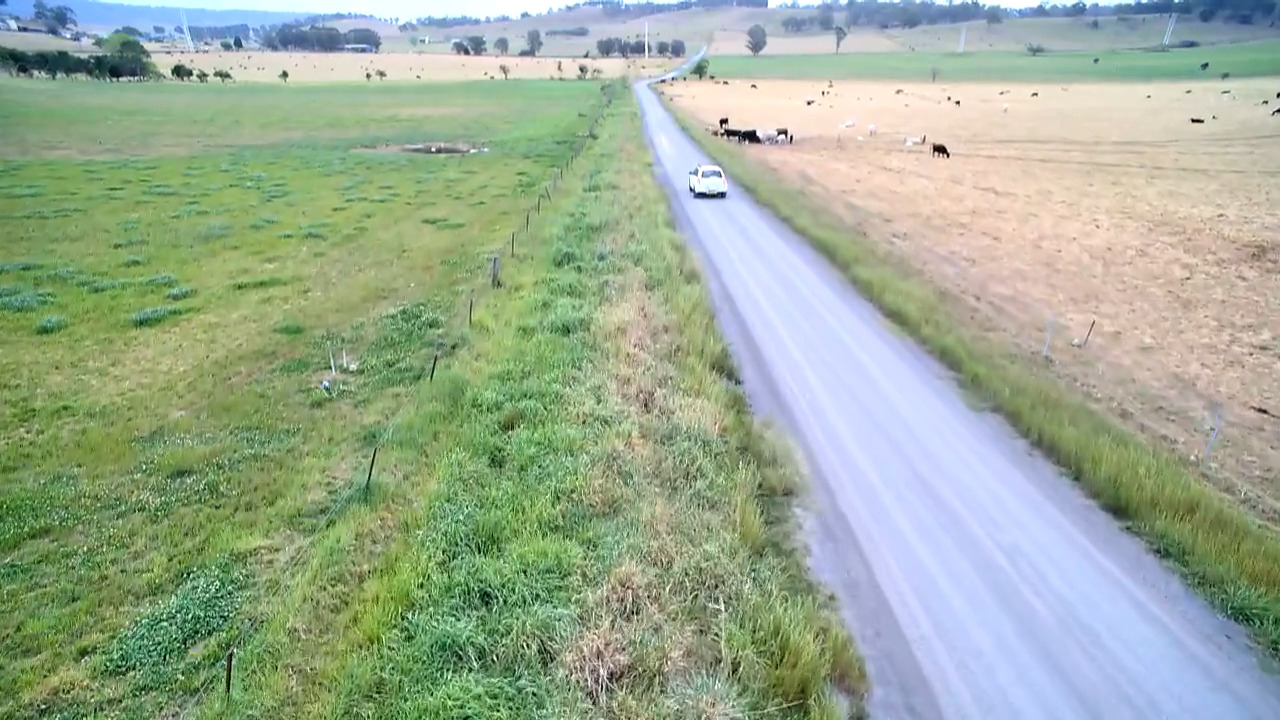Car: (688, 165, 727, 197)
